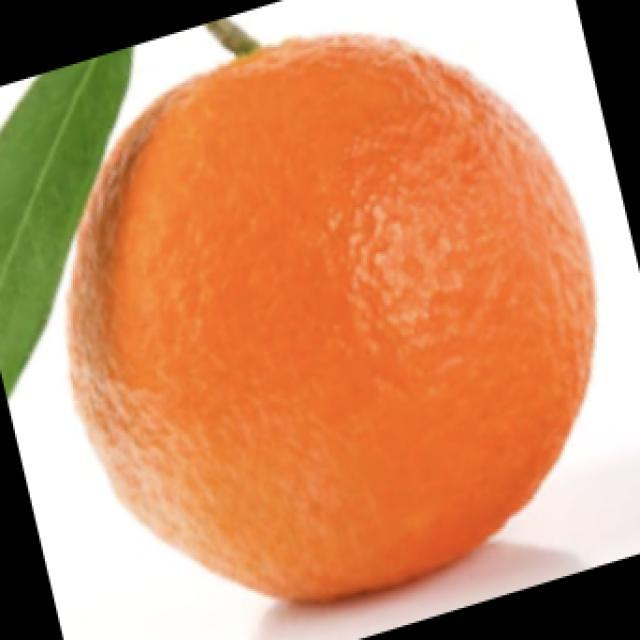matang: (69, 36, 595, 600)
